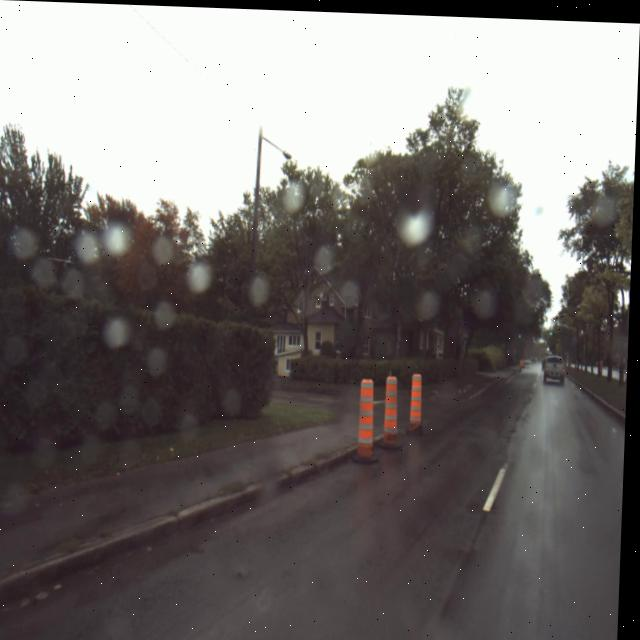car: (546, 351, 569, 382)
trafficLight-Green: (551, 325, 556, 333), (520, 328, 525, 335)
